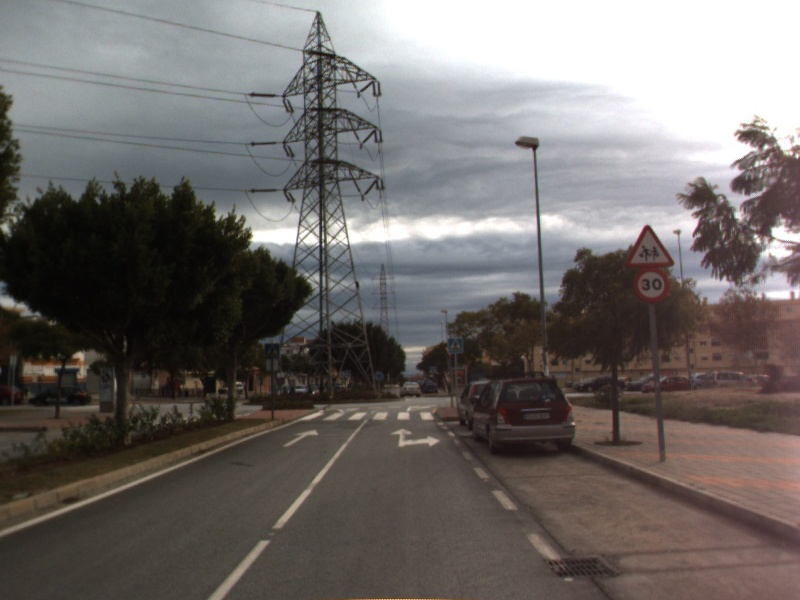STRAIGHT: (280, 428, 320, 449)
STRAIGHT_RIGHT: (388, 426, 442, 449)
